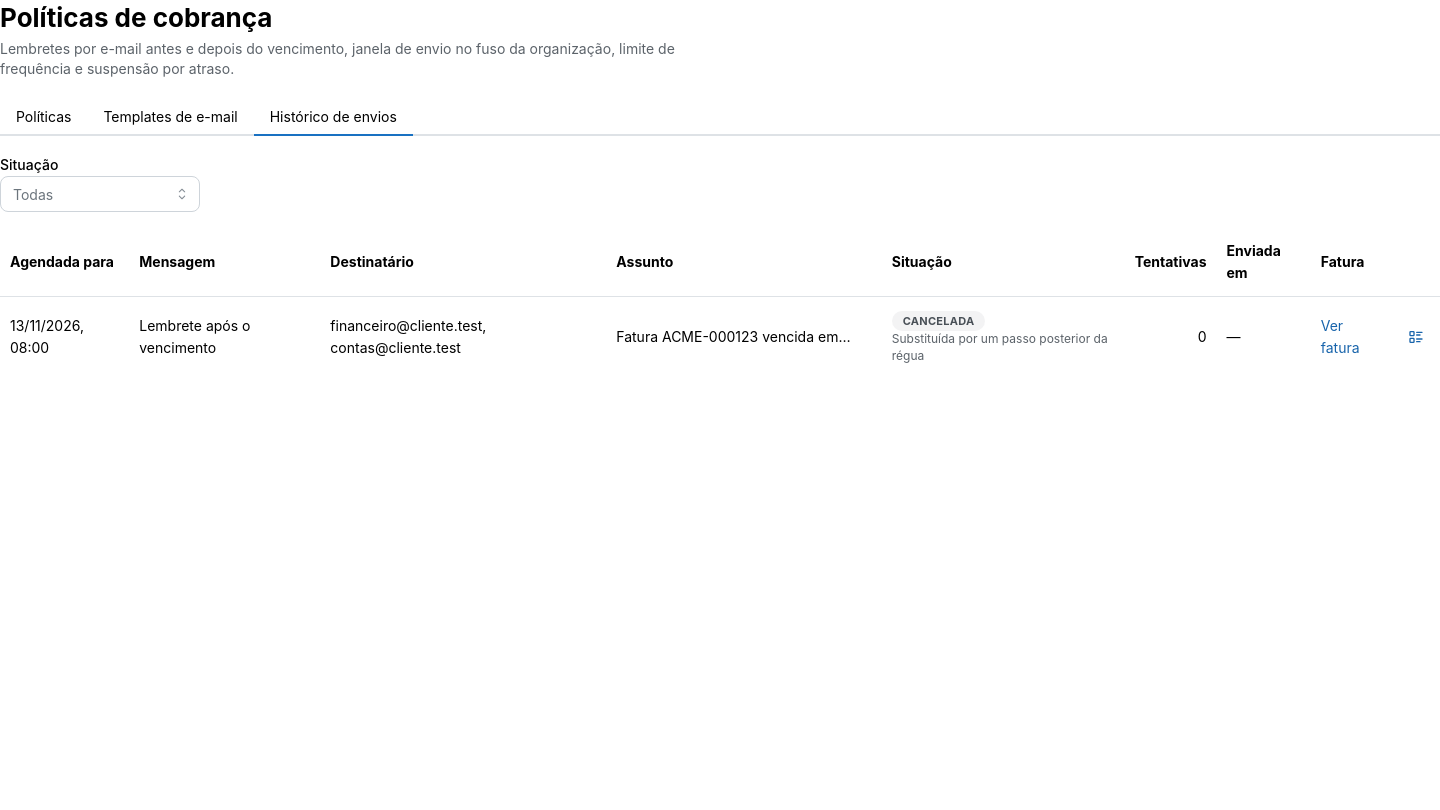
histórico de envios › abre a linha do tempo da notificação com os eventos gravados
The width and height of the screenshot is (1440, 810).
Click the button named "Linha do tempo: Fatura ACME-000123 vencida em 10/11/2026". click: (1416, 337)
box: x1=1402 y1=323 x2=1430 y2=351
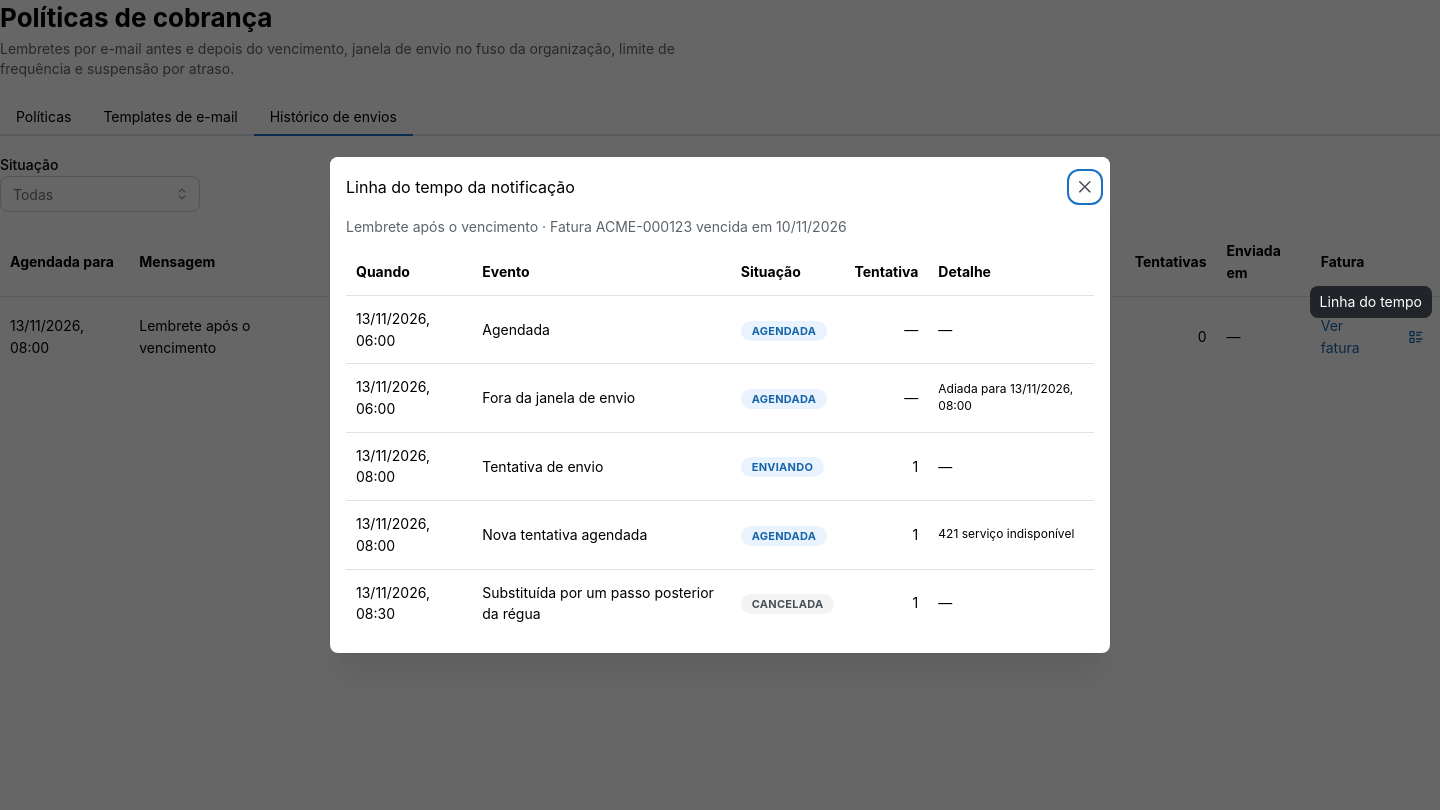
Check: the text "Fora da janela de envio" is shown, box x1=472 y1=364 x2=731 y2=432
Check: the text "Adiada para 13/11/2026, 08:00" is shown, box x1=938 y1=381 x2=1084 y2=415
Check: the text "Tentativa de envio" is shown, box x1=472 y1=432 x2=731 y2=501
